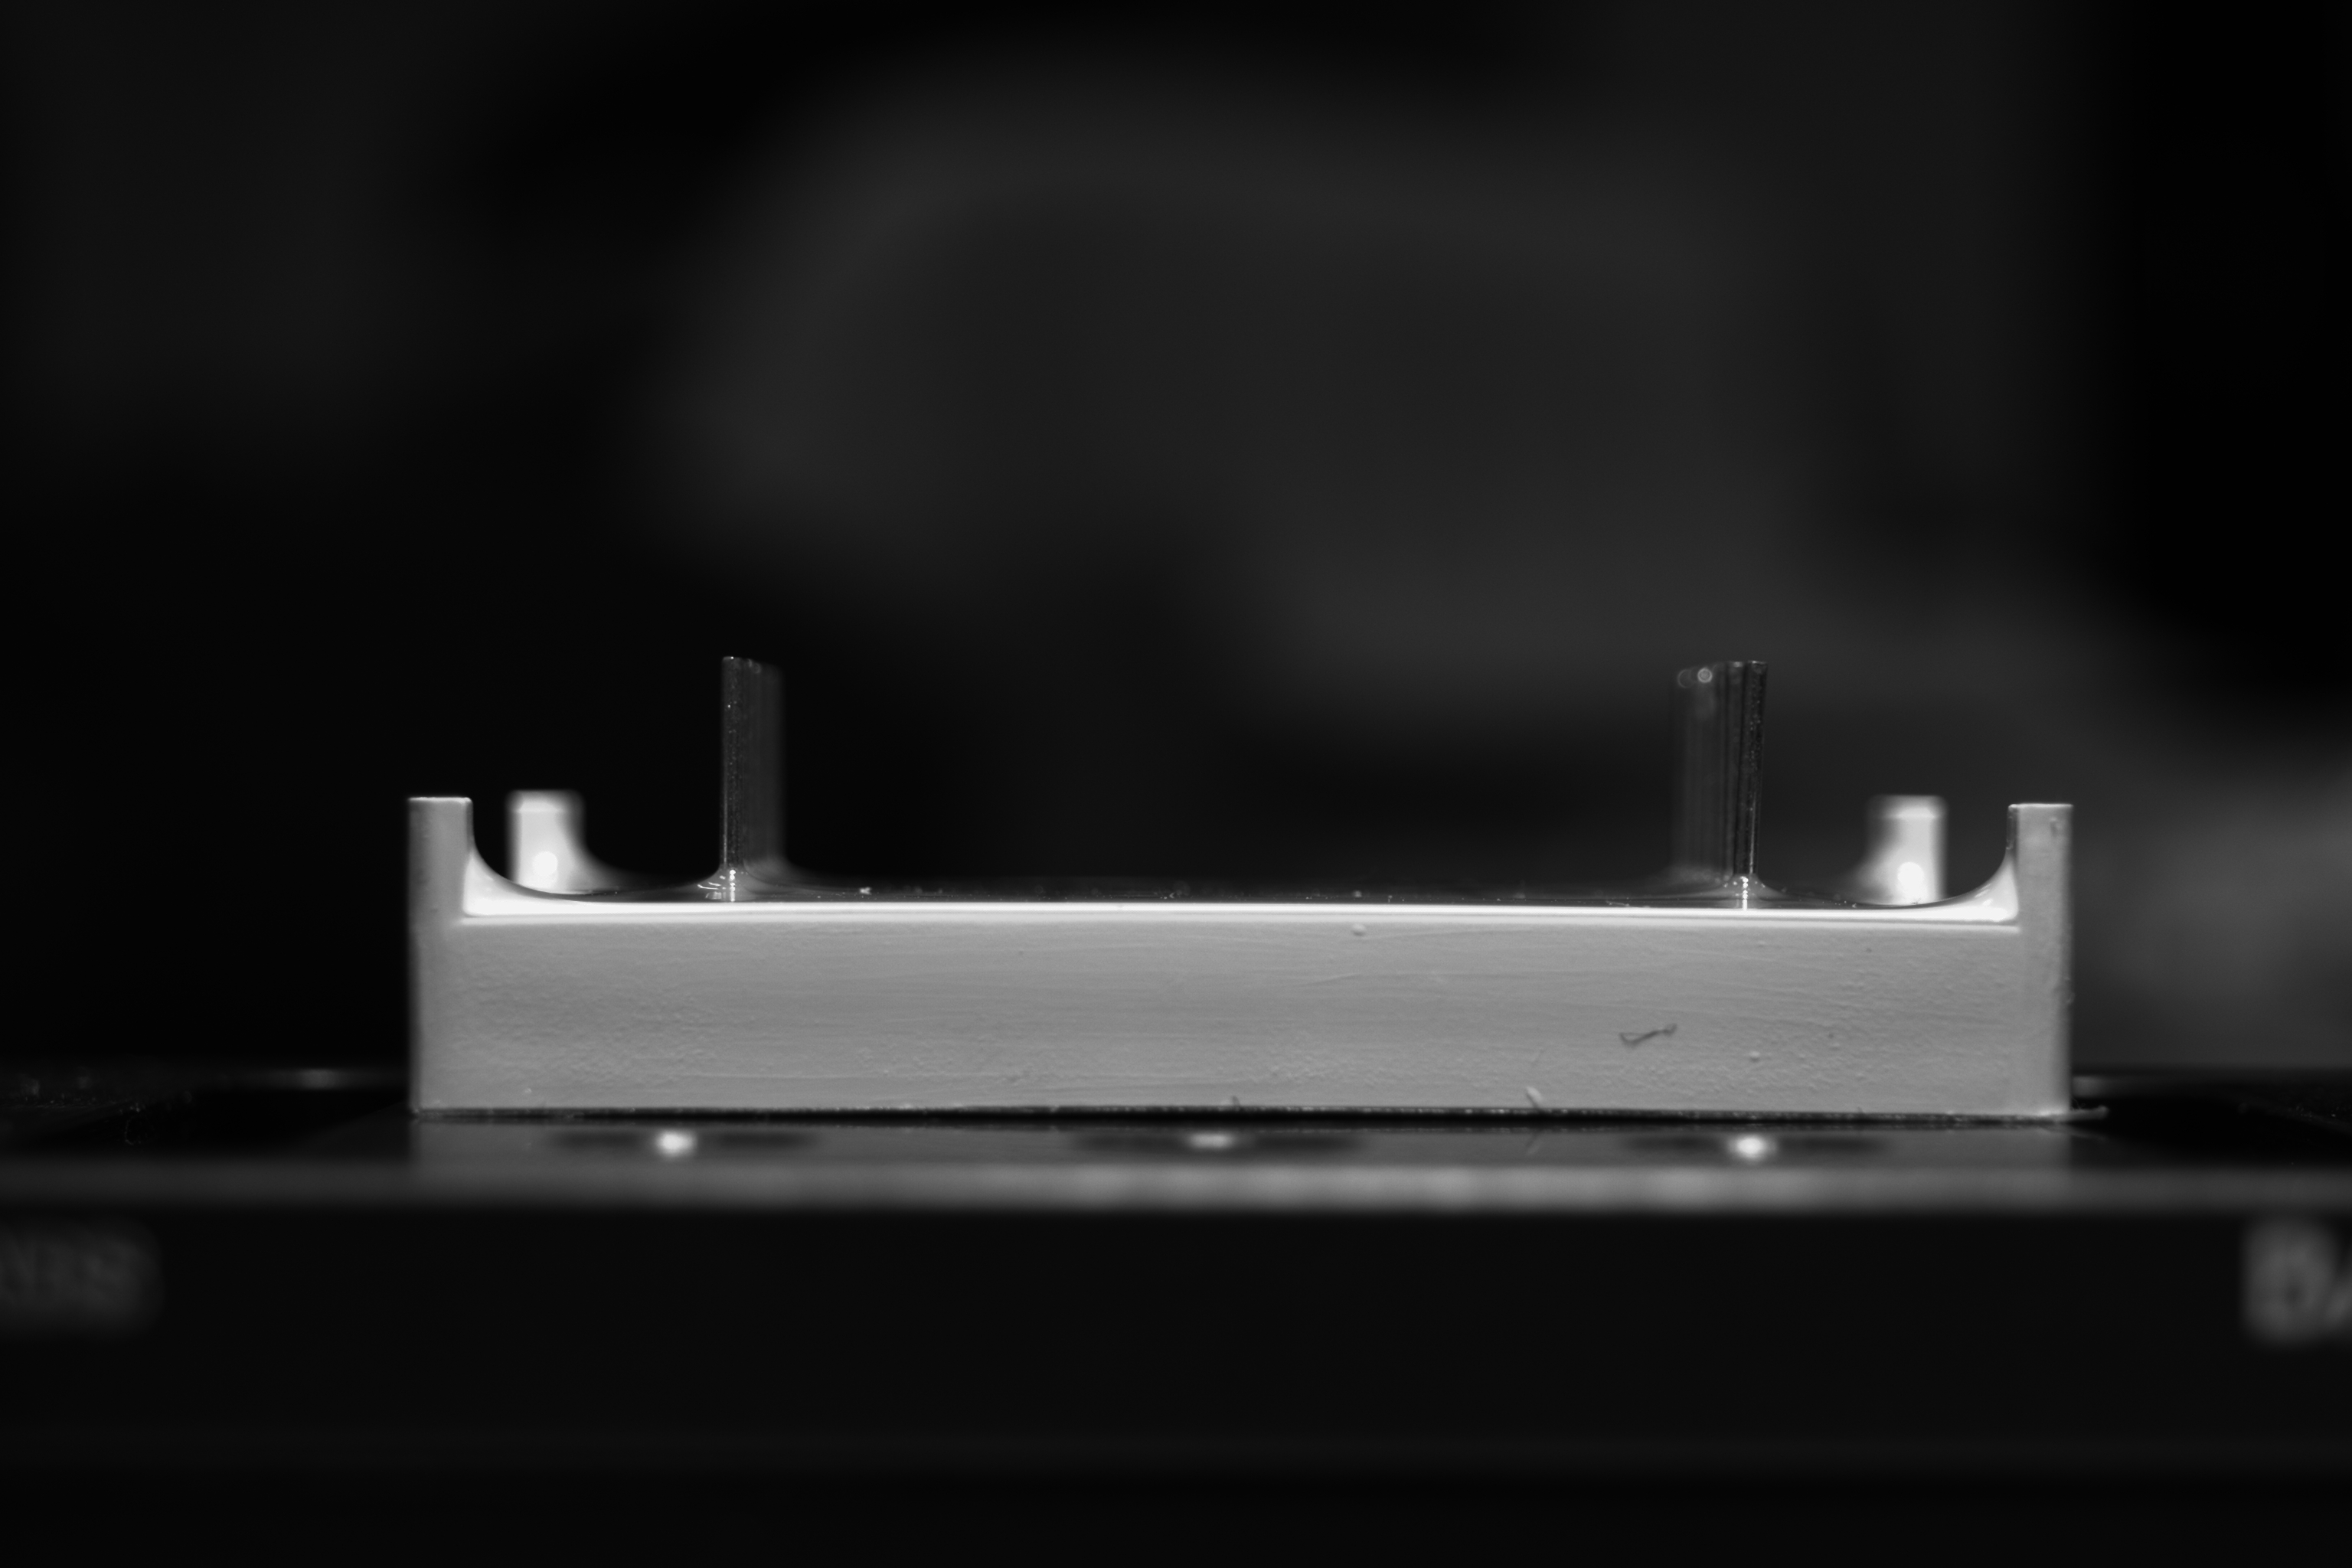glue: (1526, 1085, 1554, 1115), (1218, 1094, 1242, 1113), (1351, 922, 1368, 934), (1748, 1050, 1762, 1060)
pin_inclined_side: (1739, 660, 1771, 885)
